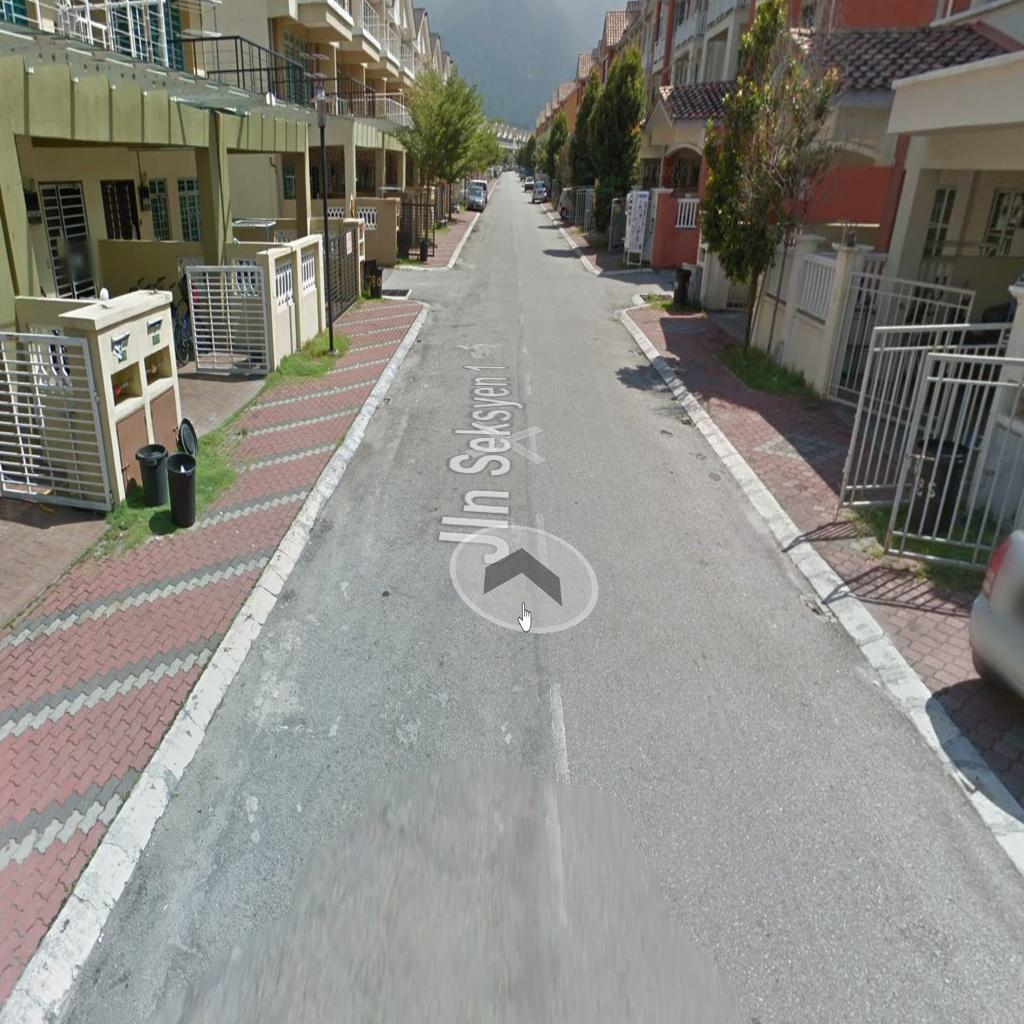Junction: (563, 258, 700, 337), (370, 233, 468, 315)
